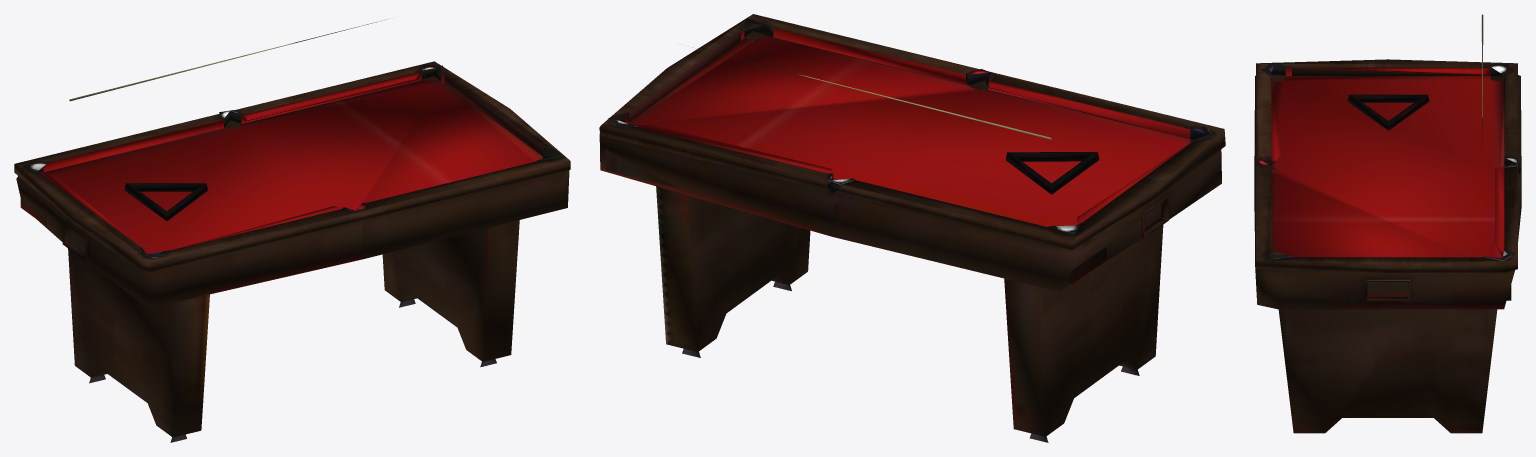
The model's file is pool-table.lod1.glb.
3 views of the same model, side by side, from view 1: azimuth 30°, elevation 25°; view 2: azimuth 150°, elevation 25°; view 3: azimuth 270°, elevation 25° (orthographic). The views are drawn at different scales.
Parts seen in each view (by area): view 1: Object_2; view 2: Object_2; view 3: Object_2.
Part boxes in pixels (x1=…): Object_2: x1=14, y1=19, x2=570, y2=442; Object_2: x1=599, y1=14, x2=1225, y2=442; Object_2: x1=1254, y1=14, x2=1521, y2=433.
Size of the model in its own units: 2.6 by 1.61 by 1.43.
Materials: 1 (1 with a texture image).
